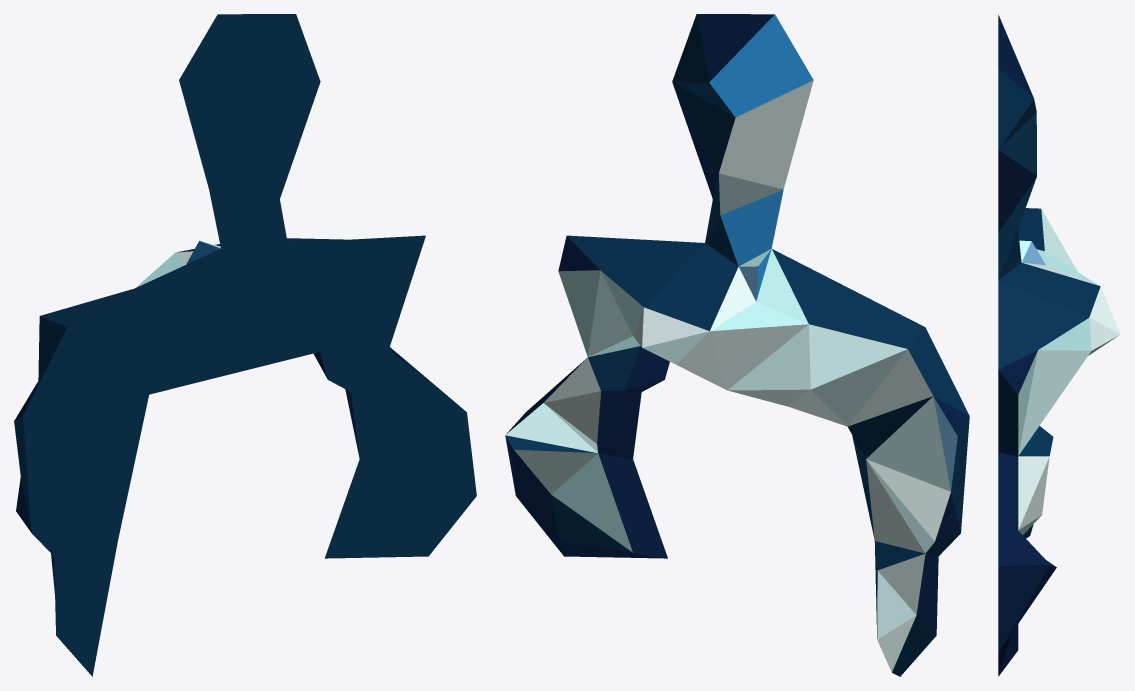
File: winter_middle_mountain_3.fbx
3 views of the same model, side by side, from view 1: azimuth 30°, elevation 25°; view 2: azimuth 150°, elevation 25°; view 3: azimuth 270°, elevation 25° (orthographic). The views are drawn at different scales.
Visible parts, largest first — view 1: winter_middle_mountain_3.001; view 2: winter_middle_mountain_3.001; view 3: winter_middle_mountain_3.001.
Part boxes in pixels (bbox=[...]): winter_middle_mountain_3.001: bbox=[14, 14, 476, 676]; winter_middle_mountain_3.001: bbox=[505, 14, 969, 676]; winter_middle_mountain_3.001: bbox=[998, 14, 1120, 676].
Bounding box in the file's own units: 689 × 917 × 169.
